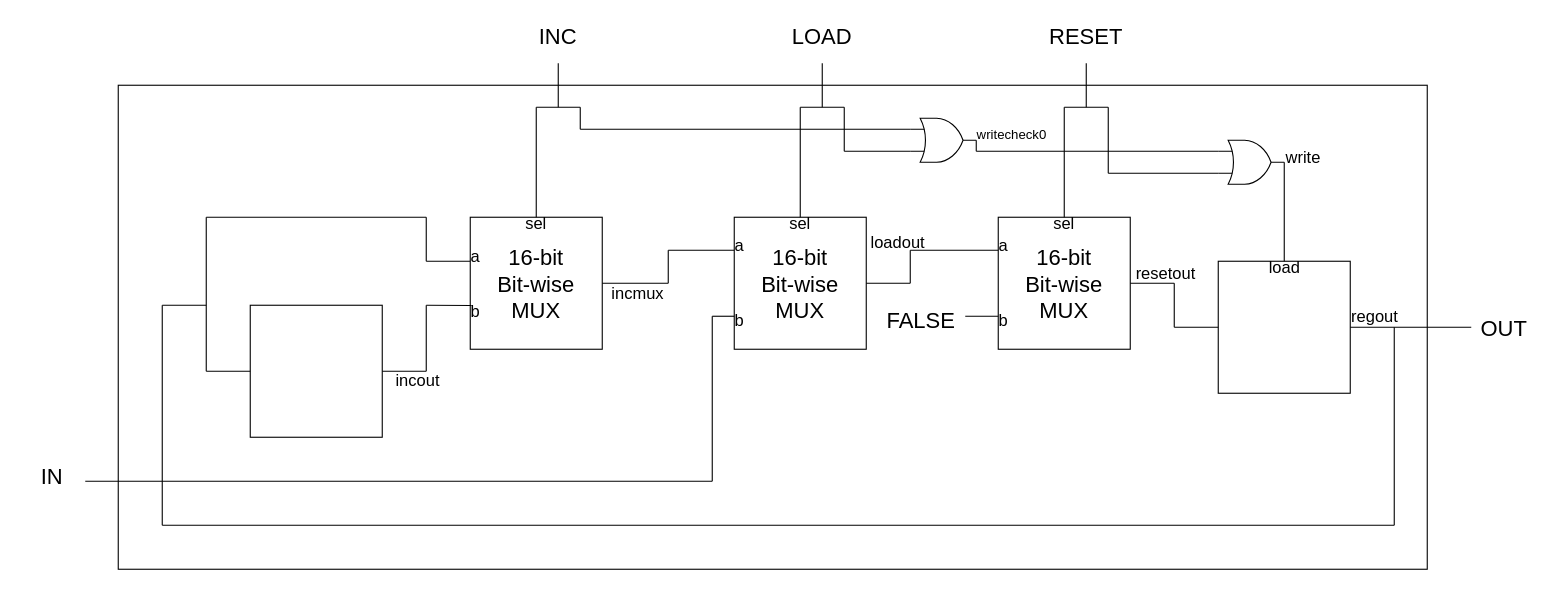
Image size: 1555x589. Some labels were removed from this diagram. The box of each missing label's shape, as (x1, y1, x2, y2) in pixels:
16-bit INCREMENT: (249, 304, 382, 437)
16-bit Register: (1217, 260, 1350, 393)
